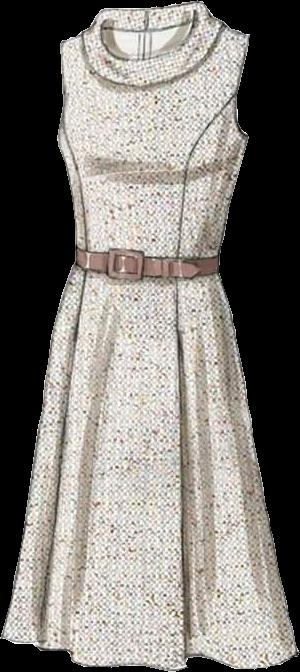Bodice: (57, 1, 249, 280)
Hemline: (0, 634, 299, 671)
Neckline: (78, 16, 226, 88), (97, 1, 201, 66)
Skirt: (1, 269, 298, 670)
Waistline: (69, 262, 222, 285)
